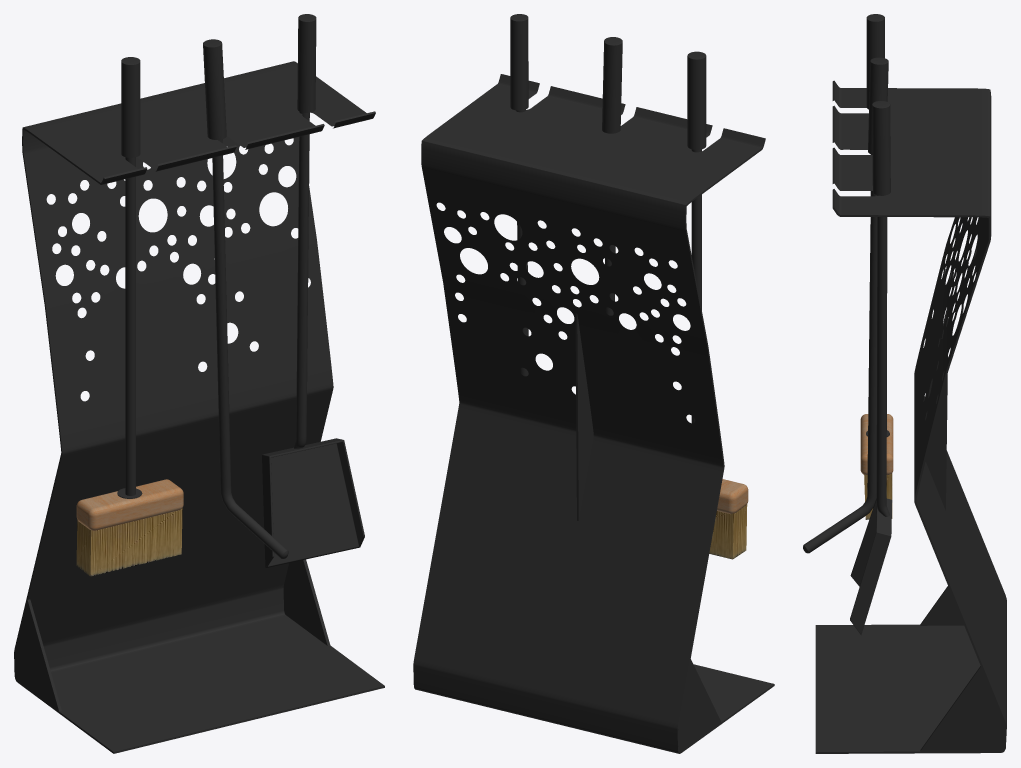
File: kamin.glb
3 views of the same model, side by side, from view 1: azimuth 30°, elevation 25°; view 2: azimuth 150°, elevation 25°; view 3: azimuth 270°, elevation 25° (orthographic). The views are drawn at different scales.
Visible parts, largest first — view 1: Boole_1, Cube_1, Cylinder 4, Box 3 - baked, Cylinder 1, Cylinder, Box 1, Extrude, Extrude_2, Cylinder 3, Cylinder 8, Cylinder 6; view 2: Boole_1, Extrude_1, Extrude, Cylinder 3, Cylinder 8, Cylinder 6, Box 3 - baked, Cylinder 1, Box 1; view 3: Boole_1, Extrude_2, Cylinder 4, Cylinder, Cube_1, Cylinder 6, Extrude_1, Cylinder 8, Cylinder 3, Extrude, Box 1.
Boxes of the visible parts, left/top/right/bottom form: Boole_1: left=14, top=61, right=384, bottom=753; Cube_1: left=262, top=438, right=364, bottom=567; Cylinder 4: left=212, top=139, right=288, bottom=558; Box 3 - baked: left=76, top=508, right=182, bottom=576; Cylinder 1: left=125, top=157, right=135, bottom=495; Cylinder: left=294, top=111, right=309, bottom=448; Box 1: left=76, top=479, right=183, bottom=530; Extrude: left=14, top=599, right=61, bottom=712; Extrude_2: left=283, top=559, right=330, bottom=645; Cylinder 3: left=121, top=57, right=140, bottom=157; Cylinder 8: left=203, top=39, right=226, bottom=140; Cylinder 6: left=297, top=14, right=316, bottom=112; Boole_1: left=413, top=74, right=774, bottom=753; Extrude_1: left=575, top=313, right=593, bottom=520; Extrude: left=678, top=658, right=721, bottom=752; Cylinder 3: left=687, top=51, right=706, bottom=149; Cylinder 8: left=602, top=37, right=622, bottom=133; Cylinder 6: left=510, top=14, right=528, bottom=110; Box 3 - baked: left=709, top=504, right=747, bottom=559; Cylinder 1: left=691, top=149, right=701, bottom=423; Box 1: left=717, top=479, right=748, bottom=513; Boole_1: left=815, top=80, right=1006, bottom=753; Extrude_2: left=920, top=666, right=1004, bottom=751; Cylinder 4: left=803, top=154, right=877, bottom=553; Cylinder: left=876, top=195, right=889, bottom=516; Cube_1: left=850, top=498, right=892, bottom=634; Cylinder 6: left=872, top=101, right=890, bottom=195; Extrude_1: left=923, top=307, right=948, bottom=510; Cylinder 8: left=868, top=57, right=888, bottom=154; Cylinder 3: left=866, top=14, right=884, bottom=109; Extrude: left=920, top=586, right=963, bottom=625; Box 1: left=860, top=414, right=893, bottom=474.
Size of the model in its own units: 0.0293 by 0.0679 by 0.0199.
13 materials, 3 textured.
